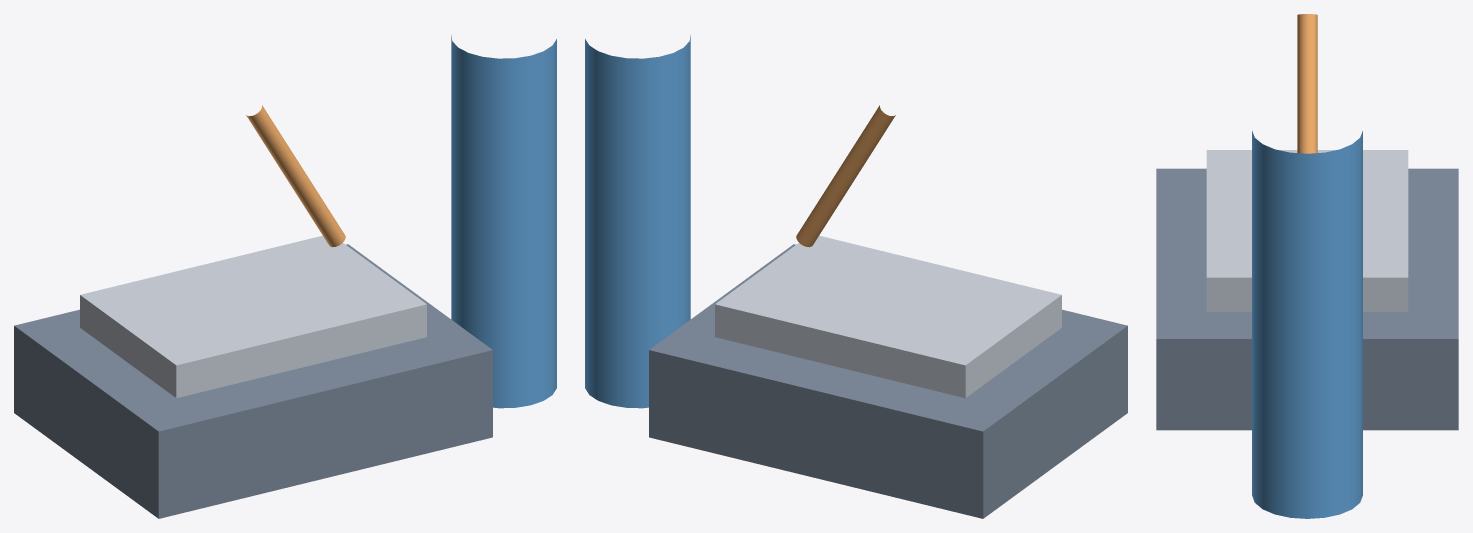
Rendered from welding_technology.glb.
3 views of the same model, side by side, from view 1: azimuth 30°, elevation 25°; view 2: azimuth 150°, elevation 25°; view 3: azimuth 270°, elevation 25° (orthographic). The views are drawn at different scales.
Visible parts, largest first — view 1: WeldingWorktable, ButtJointWorkpieces, GasOxygenCylinder, ArcElectrodeHolder; view 2: WeldingWorktable, ButtJointWorkpieces, GasOxygenCylinder, ArcElectrodeHolder; view 3: GasOxygenCylinder, WeldingWorktable, ButtJointWorkpieces, ArcElectrodeHolder.
Boxes of the visible parts, x1,y1,x2,y2 form: WeldingWorktable: [14, 244, 492, 518]; ButtJointWorkpieces: [80, 235, 426, 398]; GasOxygenCylinder: [451, 35, 556, 408]; ArcElectrodeHolder: [246, 105, 345, 247]; WeldingWorktable: [649, 244, 1127, 518]; ButtJointWorkpieces: [715, 235, 1061, 398]; GasOxygenCylinder: [585, 35, 690, 408]; ArcElectrodeHolder: [796, 105, 895, 247]; GasOxygenCylinder: [1252, 131, 1362, 518]; WeldingWorktable: [1156, 168, 1458, 430]; ButtJointWorkpieces: [1206, 150, 1408, 311]; ArcElectrodeHolder: [1297, 14, 1317, 153].
Size of the model in its own units: 2.22 by 1.6 by 1.2.
